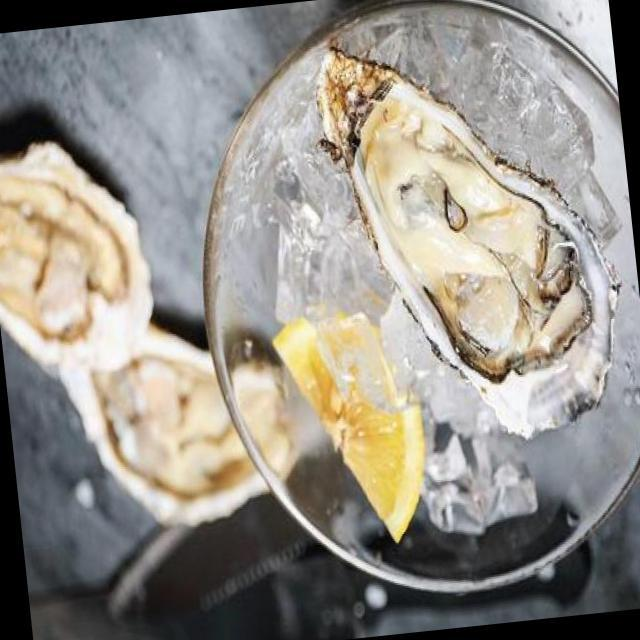Oyster-Open: (300, 16, 634, 465), (52, 302, 300, 540), (0, 125, 162, 383)
